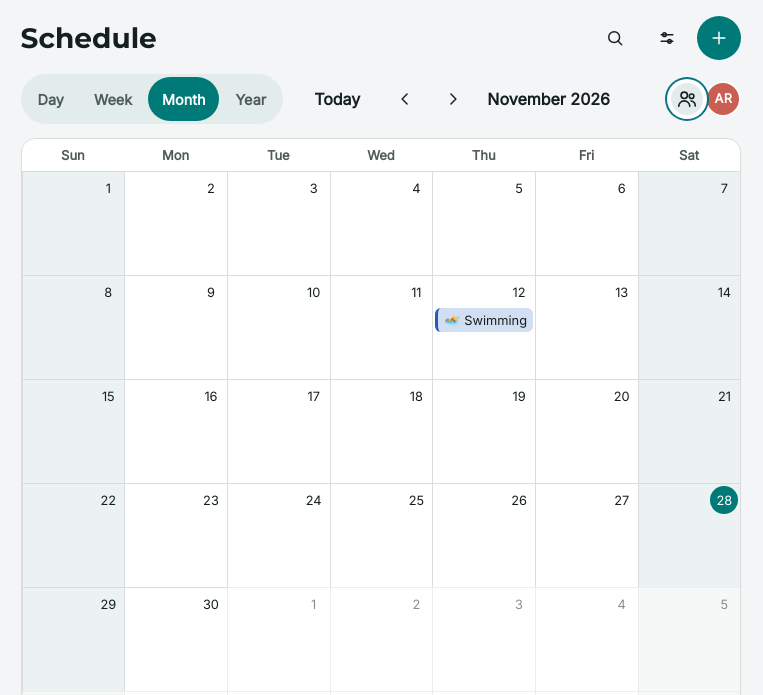
Test: SchedulePage navigation › the month view opens a day in the Day view, the year view a month in the Month view
Click the button named "November 12": coordinates (519, 292) [505, 278, 533, 306]
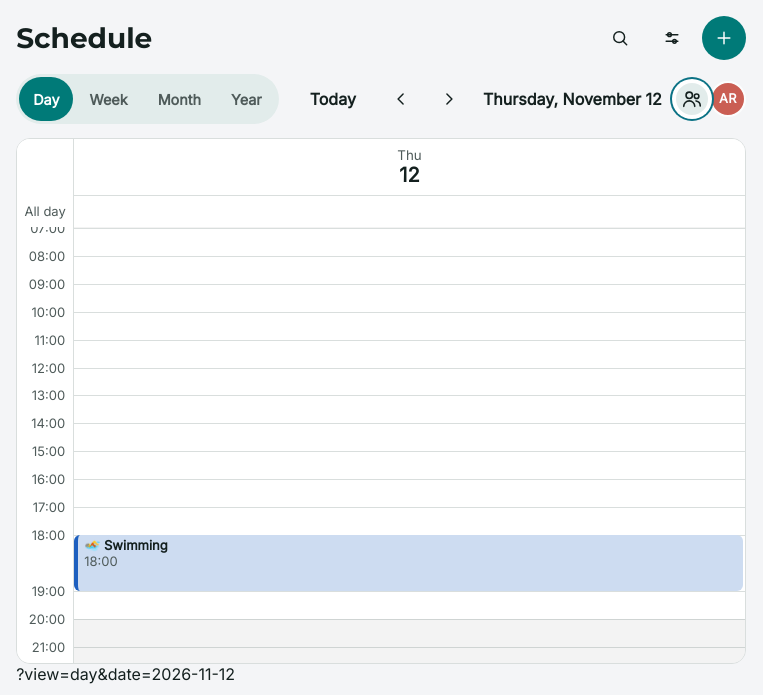
Expected: the text with test id "url" shows "date=2026-11-12", [16, 664, 235, 684]
Expected: the text with test id "url" shows "view=day", [16, 664, 235, 684]
